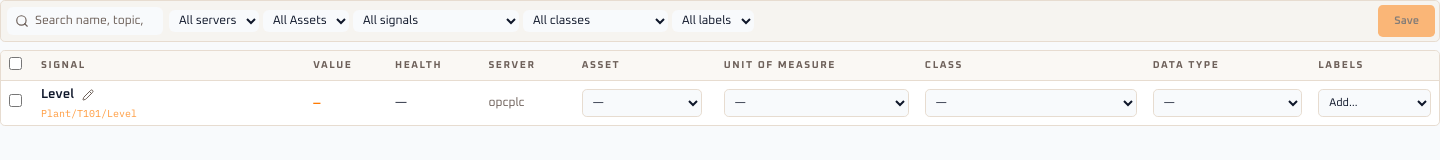
Test: SignalsTab › shows an Add signal control once an S7 server is selected in the Server filter
Check: the button "add signal" is not shown
Select "plc1" in the dropdown named "Server" at (214, 21), box x1=169 y1=10 x2=259 y2=32
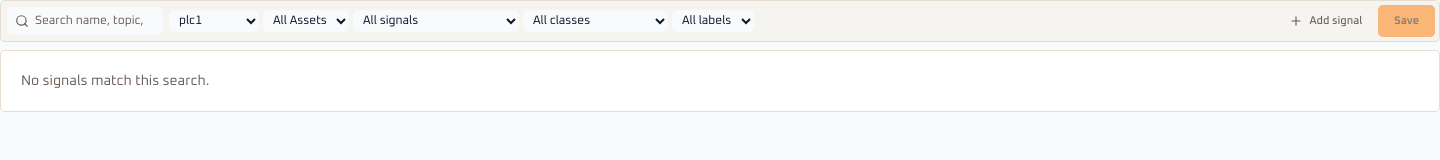
Check: the button "Add signal" is shown, box x1=1278 y1=5 x2=1374 y2=37
